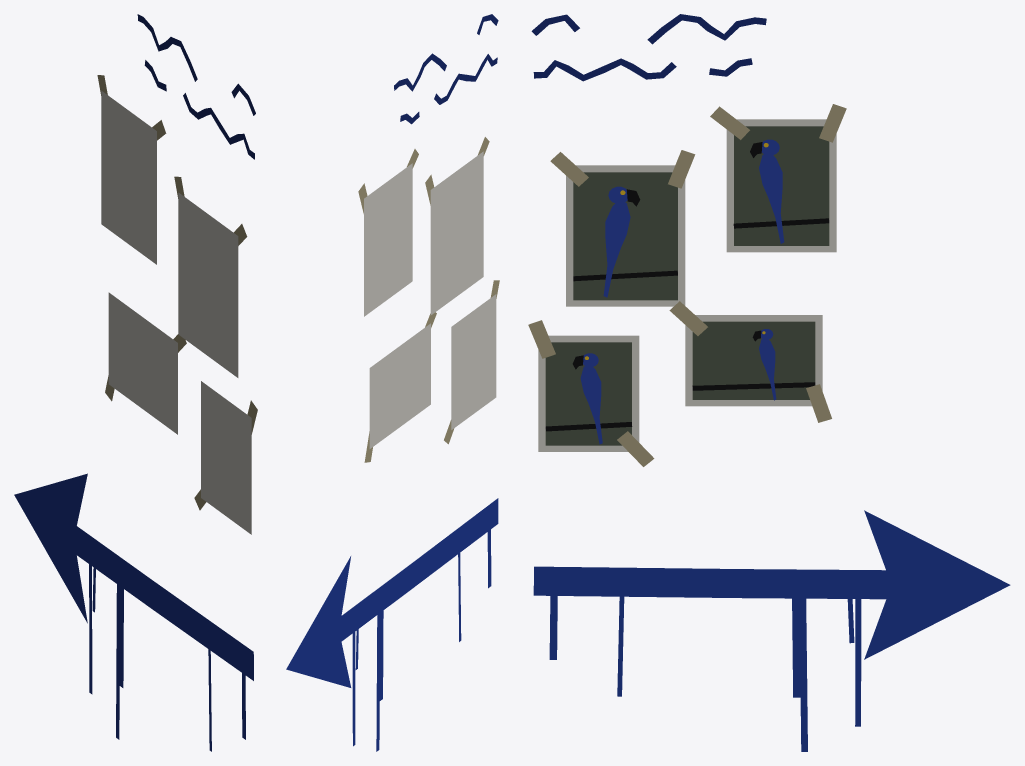
File: jerry_poster.glb
The picture shows the model from 3 angles, left to right: view 1: azimuth 30°, elevation 25°; view 2: azimuth 150°, elevation 25°; view 3: azimuth 270°, elevation 25°; orthographic projection. The views are drawn at different scales.
Visible parts, largest first — view 1: teil0, teil6, teil7, teil5; view 2: teil0, teil6, teil7, teil5; view 3: teil1, teil6, teil0, teil2, teil5, teil7, teil3.
Part boxes in pixels (<box>): teil0: <box>101,90,251,534</box>; teil6: <box>14,473,253,751</box>; teil7: <box>137,14,255,159</box>; teil5: <box>97,75,257,510</box>; teil0: <box>364,151,496,448</box>; teil6: <box>286,498,498,751</box>; teil7: <box>394,14,498,124</box>; teil5: <box>358,137,499,462</box>; teil1: <box>545,126,829,445</box>; teil6: <box>533,510,1010,751</box>; teil0: <box>538,119,836,451</box>; teil2: <box>580,139,784,444</box>; teil5: <box>528,104,846,466</box>; teil7: <box>531,14,766,81</box>; teil3: <box>545,142,829,431</box>.
Size of the model in its own units: 0.00213 by 0.8884 by 0.5262.
